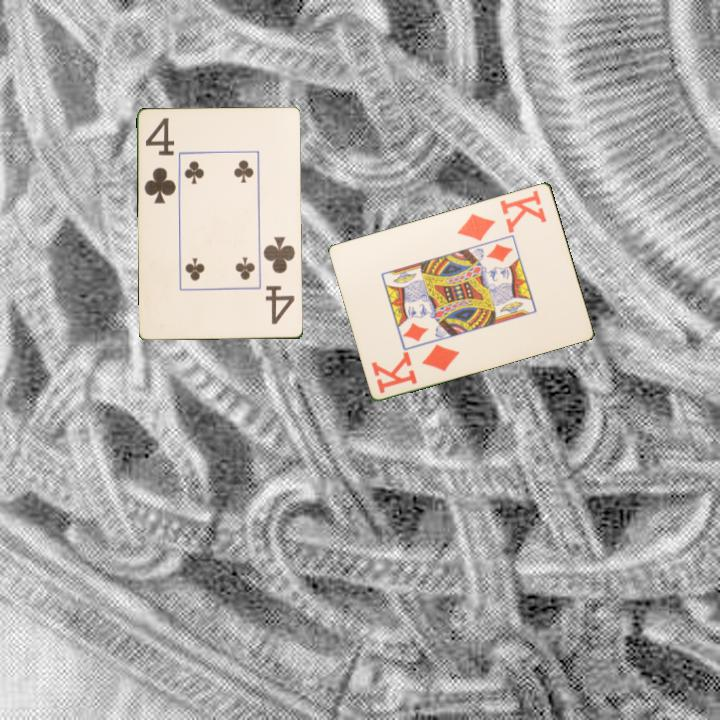4c: (260, 234, 298, 328), (141, 115, 179, 207)
Kd: (454, 186, 550, 243), (368, 340, 463, 397)
